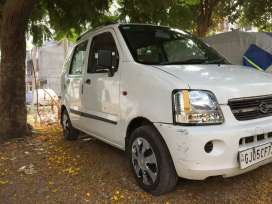license_plate: (237, 140, 271, 168)
